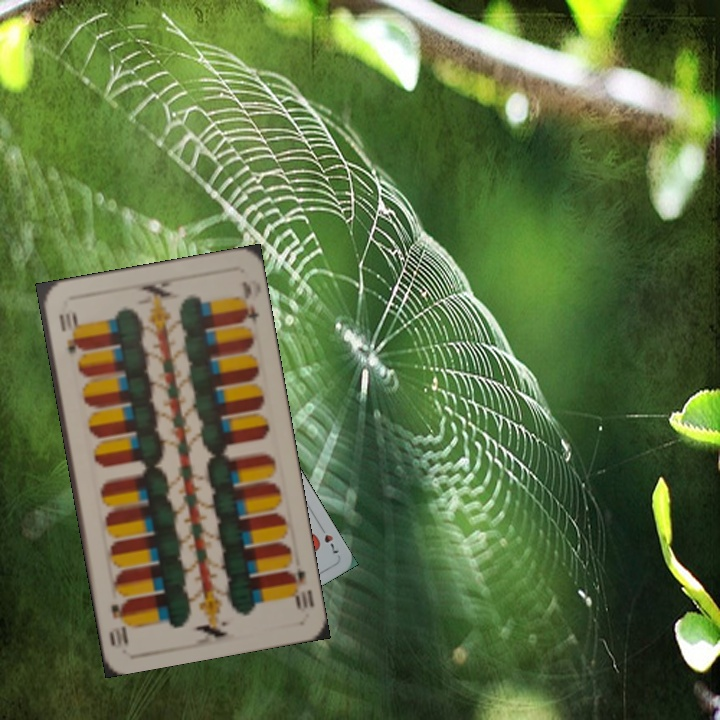E10: (282, 563, 316, 612), (55, 309, 81, 358)
H7: (315, 521, 342, 556)
